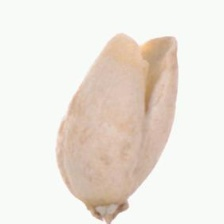L1: (110, 31, 178, 65), (83, 201, 129, 220)
L2: (56, 32, 180, 222)
